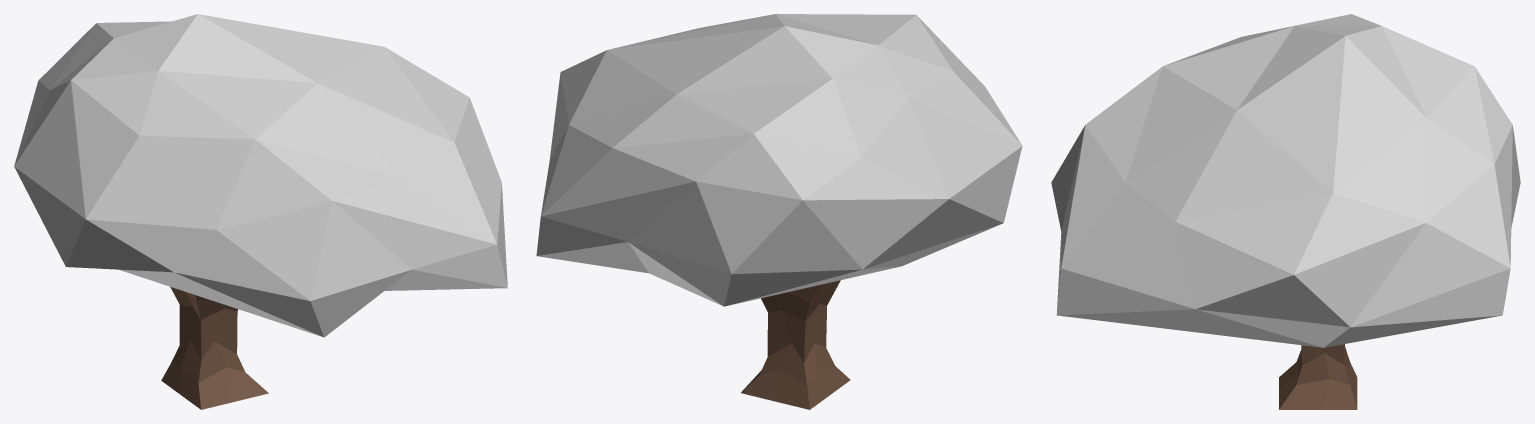
Rendered from Tree_29_White.fbx.
3 renders of one model, left to right at view 1: azimuth 30°, elevation 25°; view 2: azimuth 150°, elevation 25°; view 3: azimuth 270°, elevation 25°, orthographic. The views are drawn at different scales.
Parts seen in each view (by area): view 1: Tree_29_White_Part_1, Tree_29_White_Part_2; view 2: Tree_29_White_Part_1, Tree_29_White_Part_2; view 3: Tree_29_White_Part_1, Tree_29_White_Part_2.
Part boxes in pixels (box(x1,y1,x2,y2)): Tree_29_White_Part_1: box(14, 14, 507, 337); Tree_29_White_Part_2: box(161, 287, 268, 409); Tree_29_White_Part_1: box(536, 14, 1022, 306); Tree_29_White_Part_2: box(741, 280, 850, 409); Tree_29_White_Part_1: box(1051, 14, 1520, 347); Tree_29_White_Part_2: box(1279, 344, 1357, 409).
Size of the model in its own units: 821 by 681 by 813.
